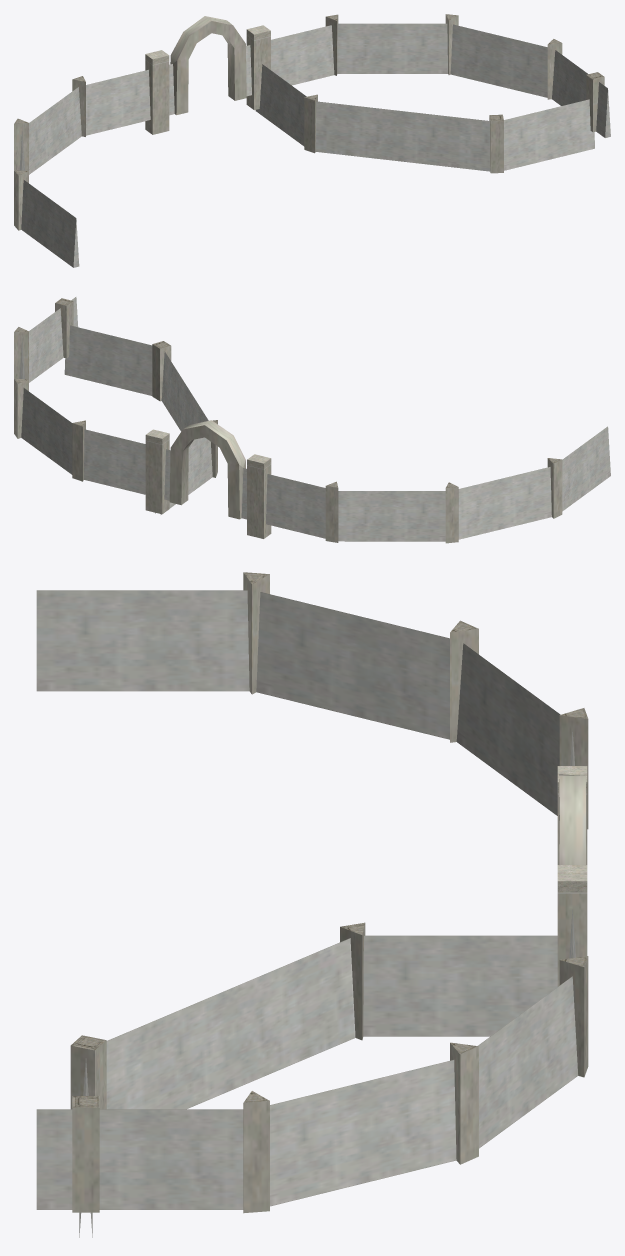
Rendered from poi_corl_corral_half_64x64_s02_l1.fbx.
3 renders of one model, top to bottom at view 1: azimuth 30°, elevation 25°; view 2: azimuth 150°, elevation 25°; view 3: azimuth 270°, elevation 25°, orthographic. The views are drawn at different scales.
Visible parts, largest first — view 1: mesh_node; view 2: mesh_node; view 3: mesh_node.
Boxes of the visible parts, x1,y1,x2,y2 form: mesh_node: [14, 14, 610, 267]; mesh_node: [14, 297, 610, 543]; mesh_node: [36, 572, 588, 1237].
Bounding box in the file's own units: 46.43 × 8.5 × 20.4.
Materials: 1 (1 with a texture image).
